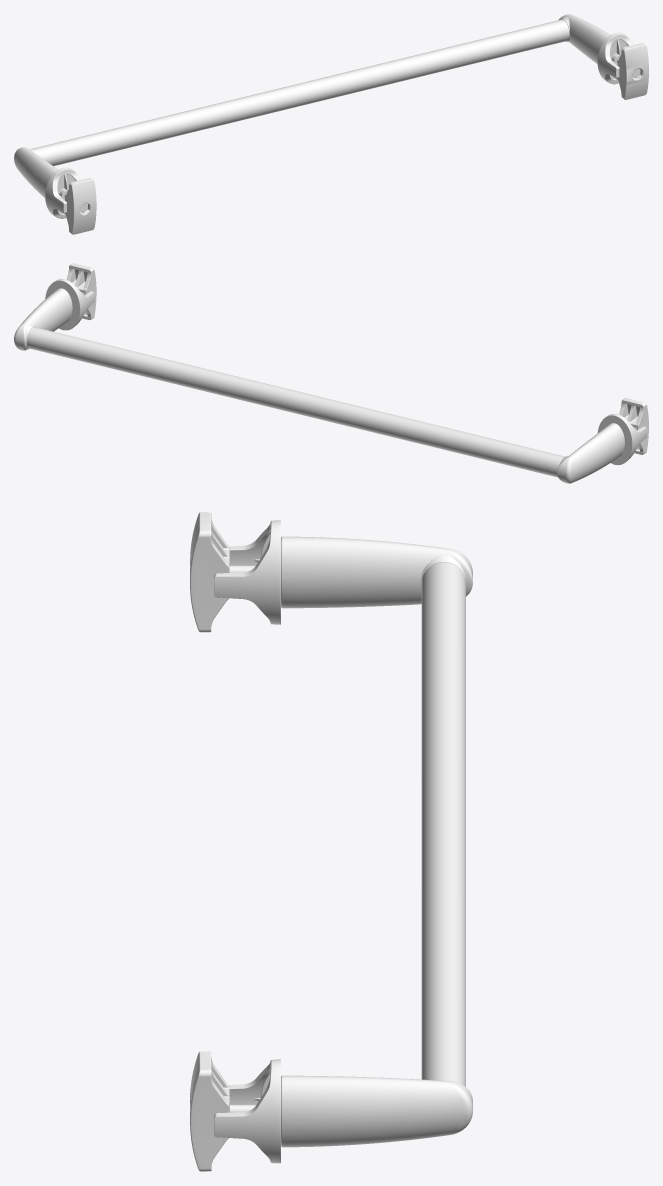
3 views of the same model, one above another, from view 1: azimuth 30°, elevation 25°; view 2: azimuth 150°, elevation 25°; view 3: azimuth 270°, elevation 25° (orthographic). The views are drawn at different scales.
Parts seen in each view (by area): view 1: hanger_BASIC_straight; view 2: hanger_BASIC_straight; view 3: hanger_BASIC_straight.
Boxes of the visible parts, x1,y1,x2,y2 form: hanger_BASIC_straight: (14,14,648,234); hanger_BASIC_straight: (14,263,648,483); hanger_BASIC_straight: (190,512,472,1171).
Size of the model in its own units: 0.4897 by 0.0404 by 0.1022.
Materials: 1 (1 with a texture image).
